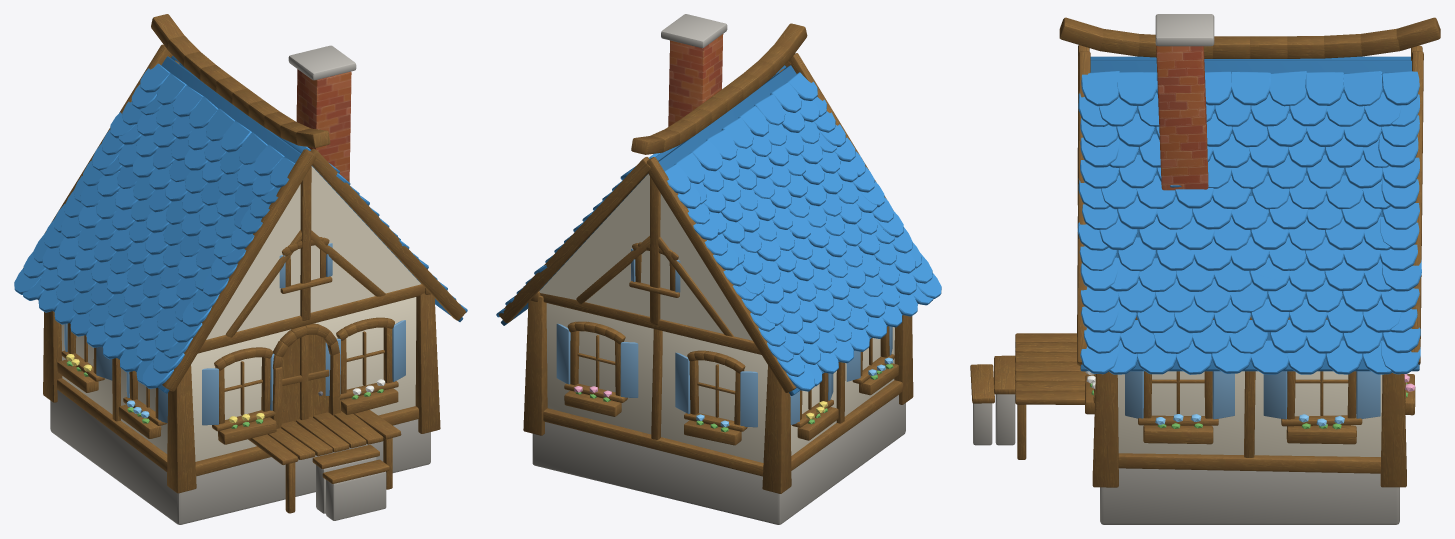
The model's file is cottage_blue.gltf.
3 renders of one model, left to right at view 1: azimuth 30°, elevation 25°; view 2: azimuth 150°, elevation 25°; view 3: azimuth 270°, elevation 25°, orthographic. The views are drawn at different scales.
Visible parts, largest first — view 1: cottage_blue; view 2: cottage_blue; view 3: cottage_blue.
Boxes of the visible parts, left/top/right/bottom form: cottage_blue: left=14, top=14, right=467, bottom=524; cottage_blue: left=496, top=14, right=941, bottom=524; cottage_blue: left=970, top=14, right=1440, bottom=524.
Size of the model in its own units: 6.54 by 7.78 by 7.21.
15 materials, 2 textured.
